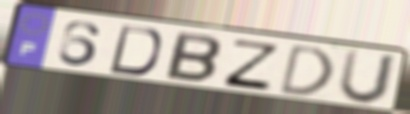6: (57, 20, 103, 69)
B: (162, 30, 224, 85)
D: (276, 42, 337, 98), (106, 23, 164, 78)
U: (335, 48, 401, 107)
Z: (220, 37, 282, 93)
